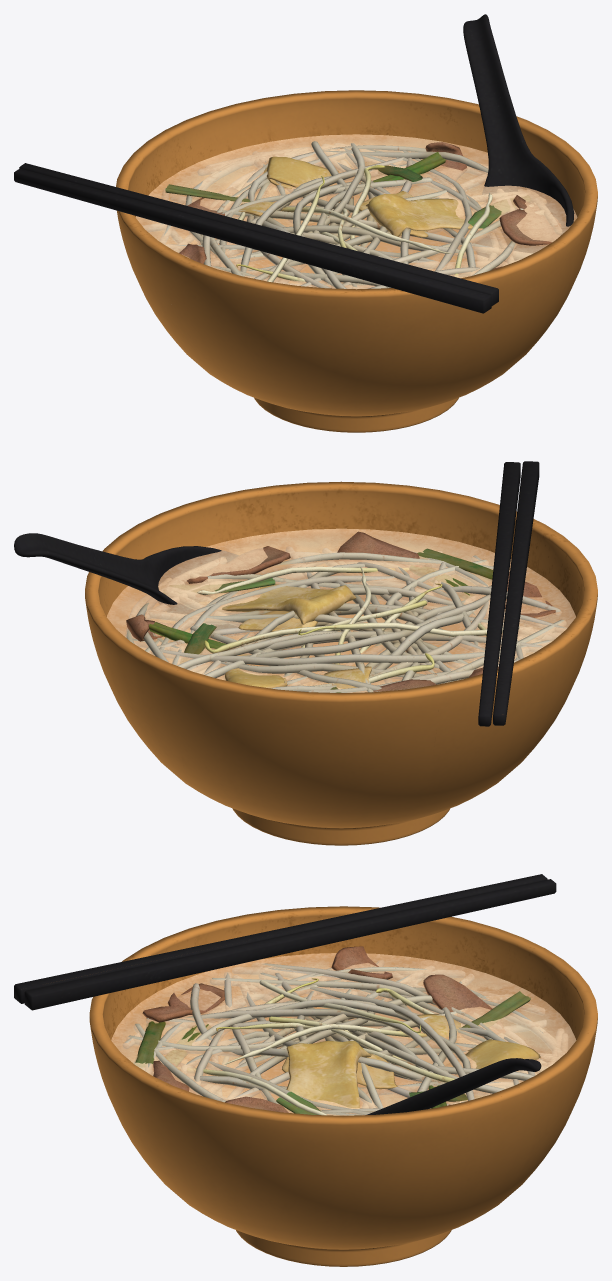
3 views of the same model, one above another, from view 1: azimuth 30°, elevation 25°; view 2: azimuth 150°, elevation 25°; view 3: azimuth 270°, elevation 25° (orthographic). The views are drawn at different scales.
Parts seen in each view (by area): view 1: bowl, noodel, soup, top; view 2: bowl, noodel, soup, top; view 3: bowl, noodel, soup, top.
Boxes of the visible parts, left/top/right/bottom form: bowl: left=14, top=14, right=597, bottom=432; noodel: left=143, top=141, right=561, bottom=288; soup: left=135, top=134, right=577, bottom=289; top: left=165, top=142, right=561, bottom=269; bowl: left=14, top=461, right=597, bottom=845; noodel: left=125, top=547, right=566, bottom=692; soup: left=107, top=528, right=575, bottom=692; top: left=126, top=531, right=555, bottom=692; bowl: left=14, top=874, right=597, bottom=1266; noodel: left=123, top=960, right=567, bottom=1115; soup: left=111, top=953, right=576, bottom=1115; top: left=134, top=946, right=540, bottom=1114.
Size of the model in its own units: 8.83 by 4.68 by 9.1.
Materials: 4 (4 with a texture image).
